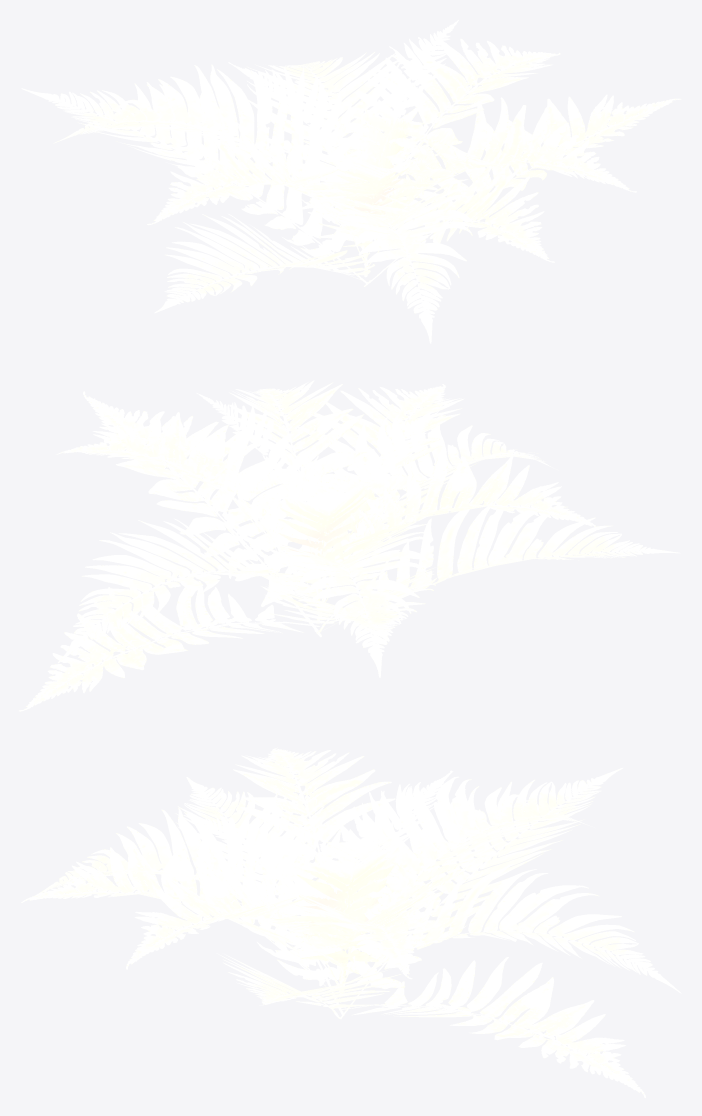
The picture shows the model from 3 angles, top to bottom: view 1: azimuth 30°, elevation 25°; view 2: azimuth 150°, elevation 25°; view 3: azimuth 270°, elevation 25°; orthographic projection. The views are drawn at different scales.
Visible parts, largest first — view 1: SM_DR_Fern_03_LOD0; view 2: SM_DR_Fern_03_LOD0; view 3: SM_DR_Fern_03_LOD0.
Part boxes in pixels (x1,y1,x2,y2): SM_DR_Fern_03_LOD0: (21, 20, 681, 343); SM_DR_Fern_03_LOD0: (19, 380, 680, 711); SM_DR_Fern_03_LOD0: (21, 747, 681, 1097).
Bounding box in the file's own units: 0.73 × 0.2883 × 0.7266.
Materials: 1 (1 with a texture image).
